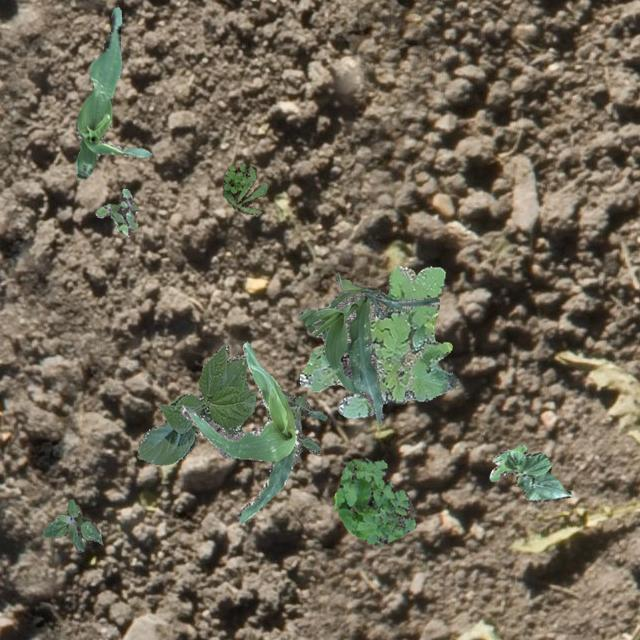crop: (180, 340, 298, 522), (298, 272, 438, 424), (137, 344, 256, 464), (74, 6, 150, 178), (488, 444, 570, 500)
weed: (298, 264, 456, 416), (332, 458, 414, 544), (258, 388, 326, 461), (42, 498, 102, 550), (222, 162, 266, 215), (94, 188, 136, 235)
